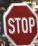Stop sign: (0, 0, 37, 45)
